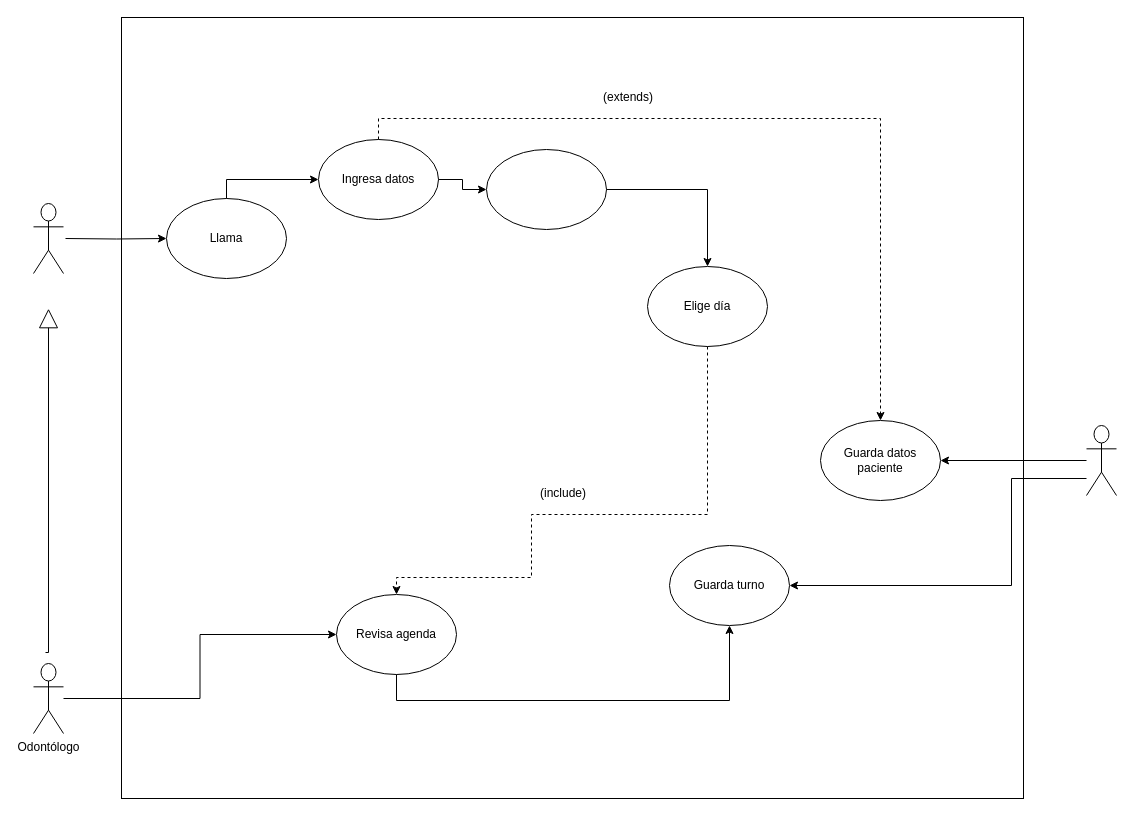
This 1134x816 diagram has some shape labels left out. The shapes that lost their labels are listed below. From the top down, each one's centre as x and y in pixels, then its label:
point 546,189: Elige tratamiento
point 48,238: Paciente
point 1101,460: Base de Datos
